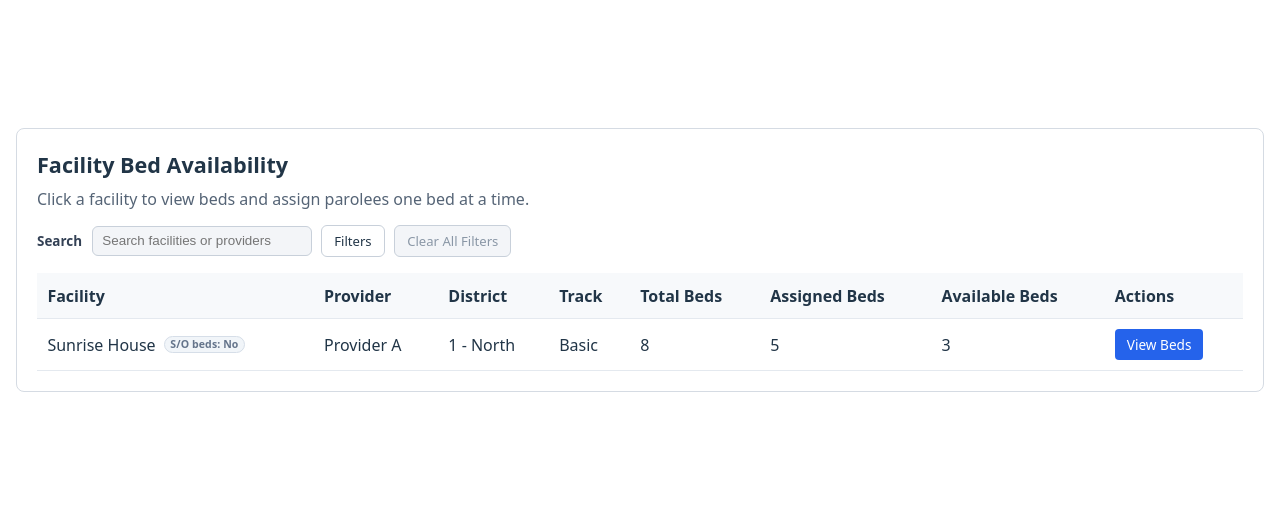
Test: MainDash › shows read-only text for available beds when holds are disabled
Check: the text "Sunrise House" is shown, box left=47, top=333, right=156, bottom=357
Click the button "View Beds". click: (1159, 345)
box: left=1115, top=330, right=1204, bottom=360
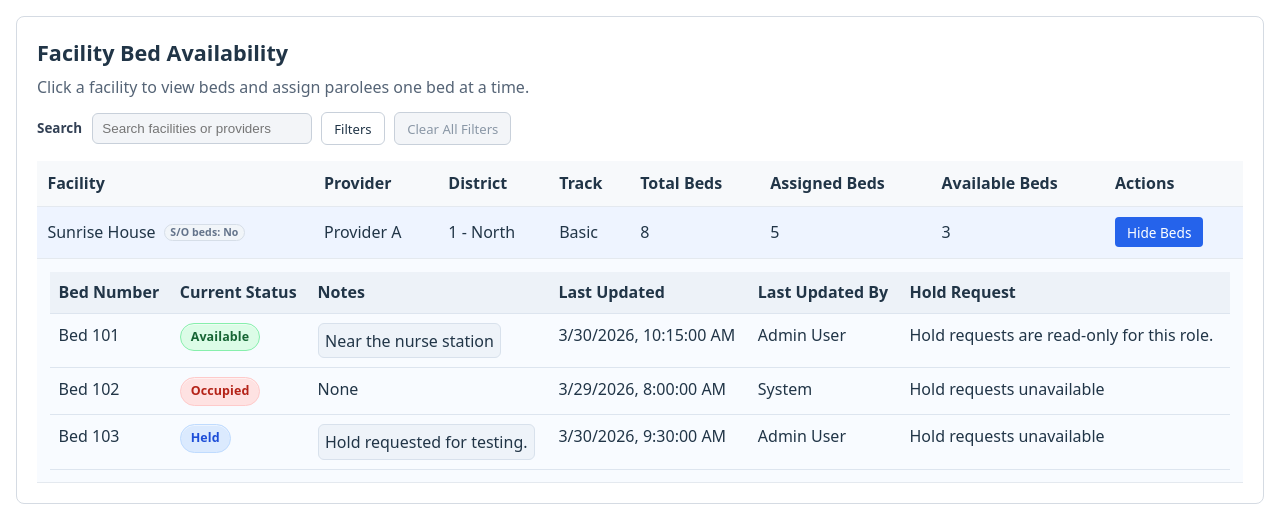
Check: the text "Bed 101" is shown, box left=50, top=314, right=171, bottom=368
Check: the text "Hold requests are read-only for this role." is shown, box left=910, top=324, right=1213, bottom=346
